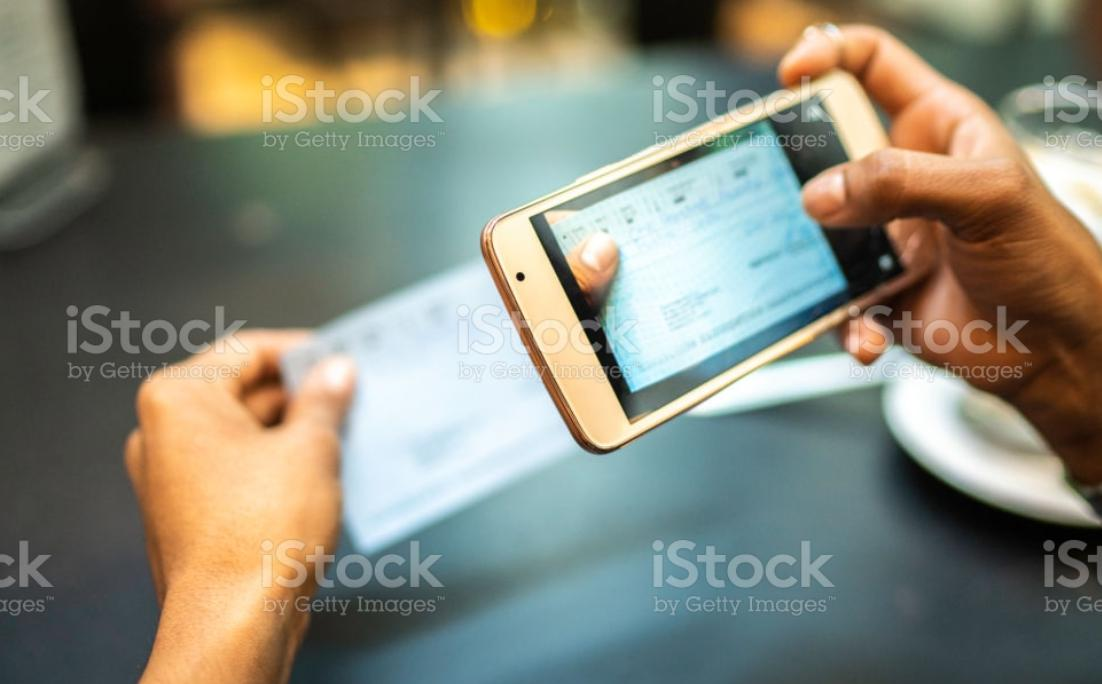mobile: (480, 66, 942, 455)
